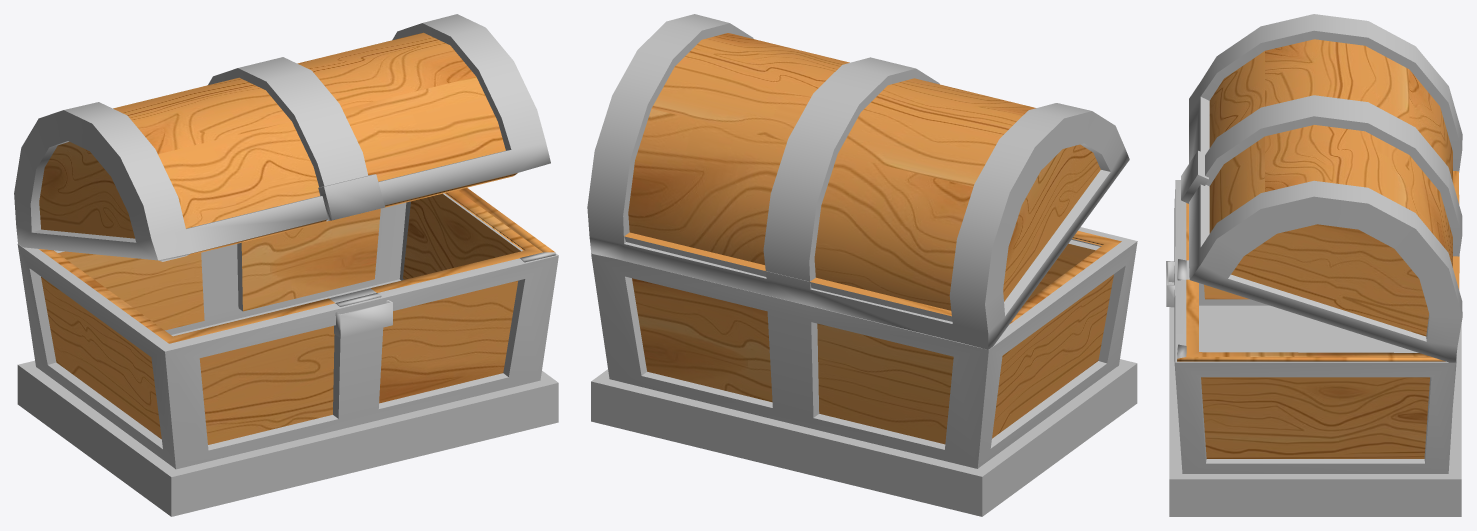
The model's file is OpendChest.fbx.
3 views of the same model, side by side, from view 1: azimuth 30°, elevation 25°; view 2: azimuth 150°, elevation 25°; view 3: azimuth 270°, elevation 25° (orthographic). The views are drawn at different scales.
Visible parts, largest first — view 1: Low; view 2: Low; view 3: Low.
Boxes of the visible parts, left/top/right/bottom form: Low: left=14, top=14, right=558, bottom=516; Low: left=587, top=14, right=1137, bottom=516; Low: left=1166, top=14, right=1462, bottom=516.
Bounding box in the file's own units: 139 × 114 × 94.8.
